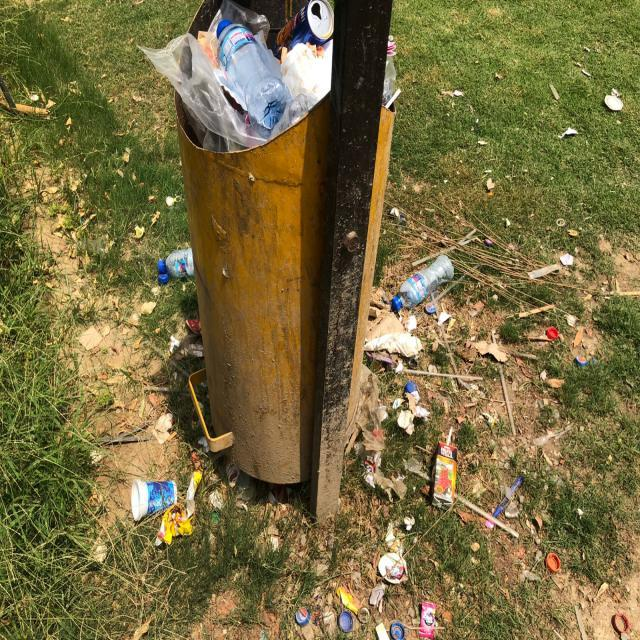garbage: (145, 0, 500, 640)
